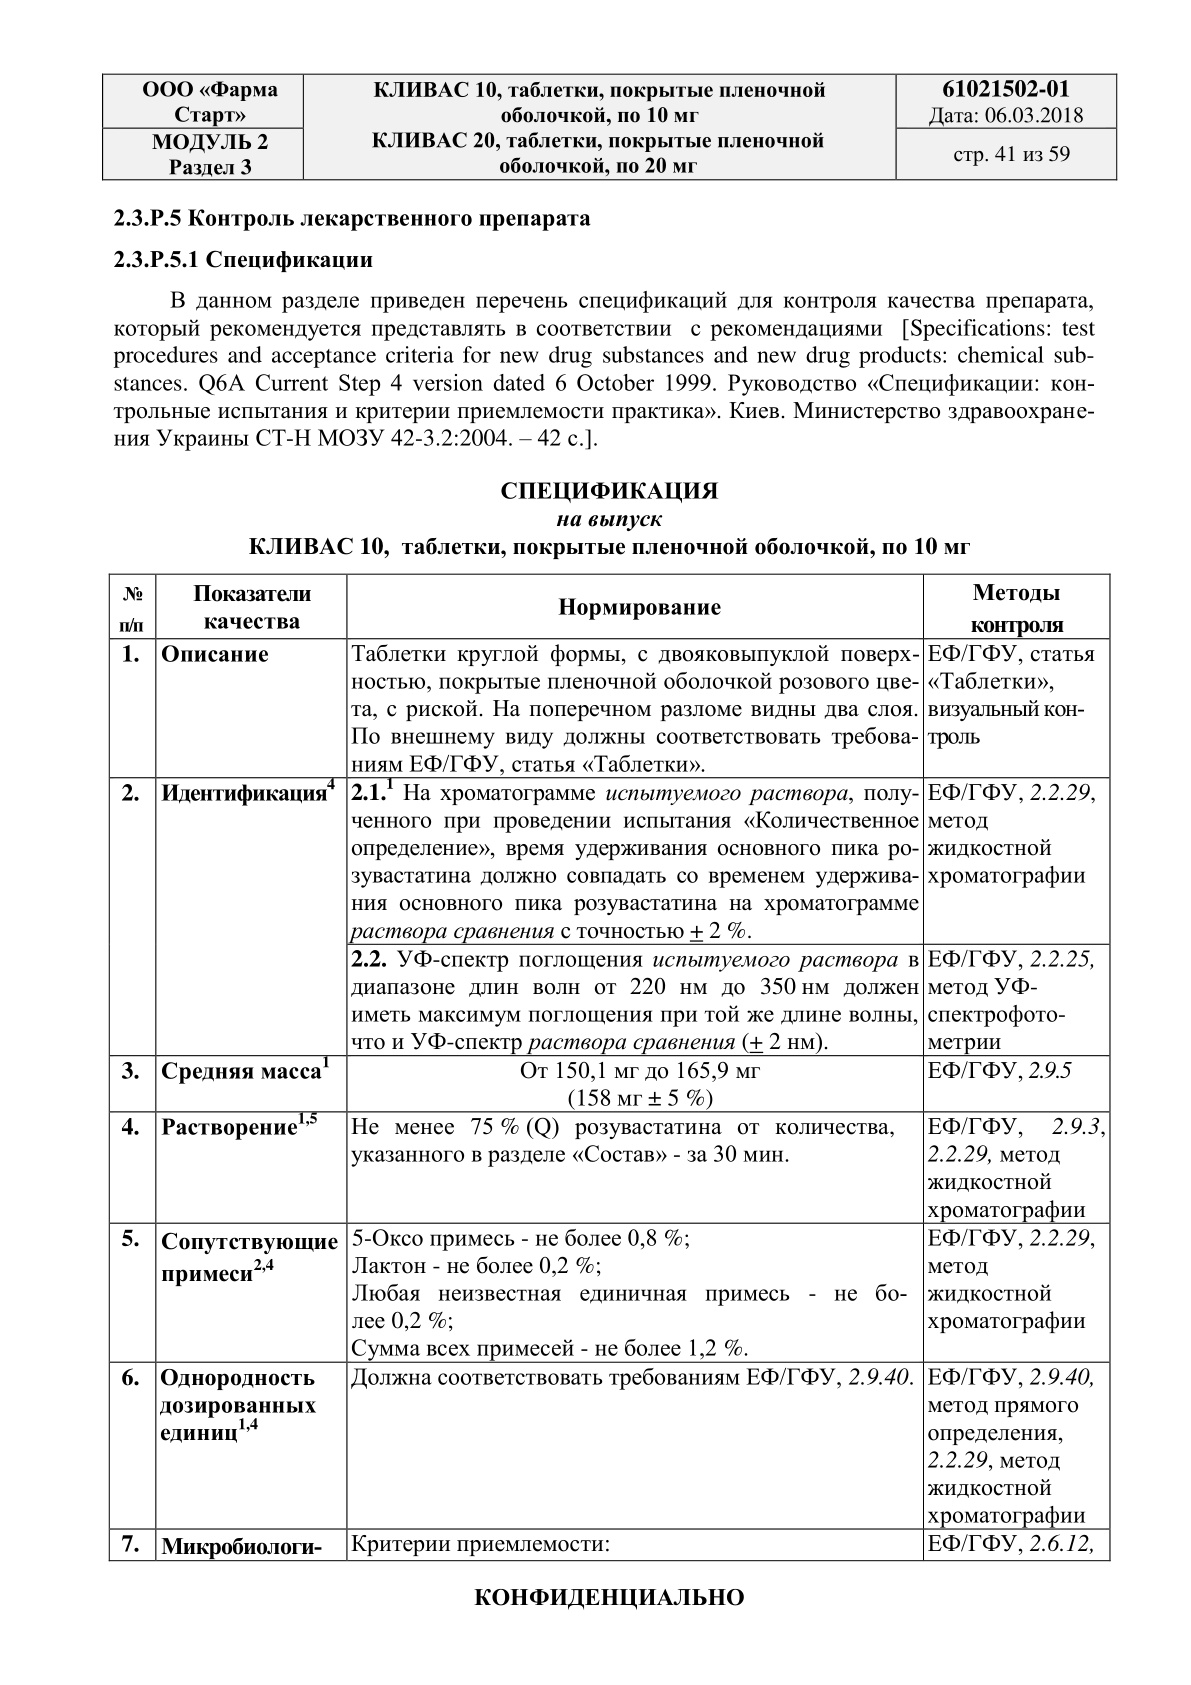full_lined: (108, 572, 1111, 1563)
merged_cells: (102, 72, 1118, 180)
